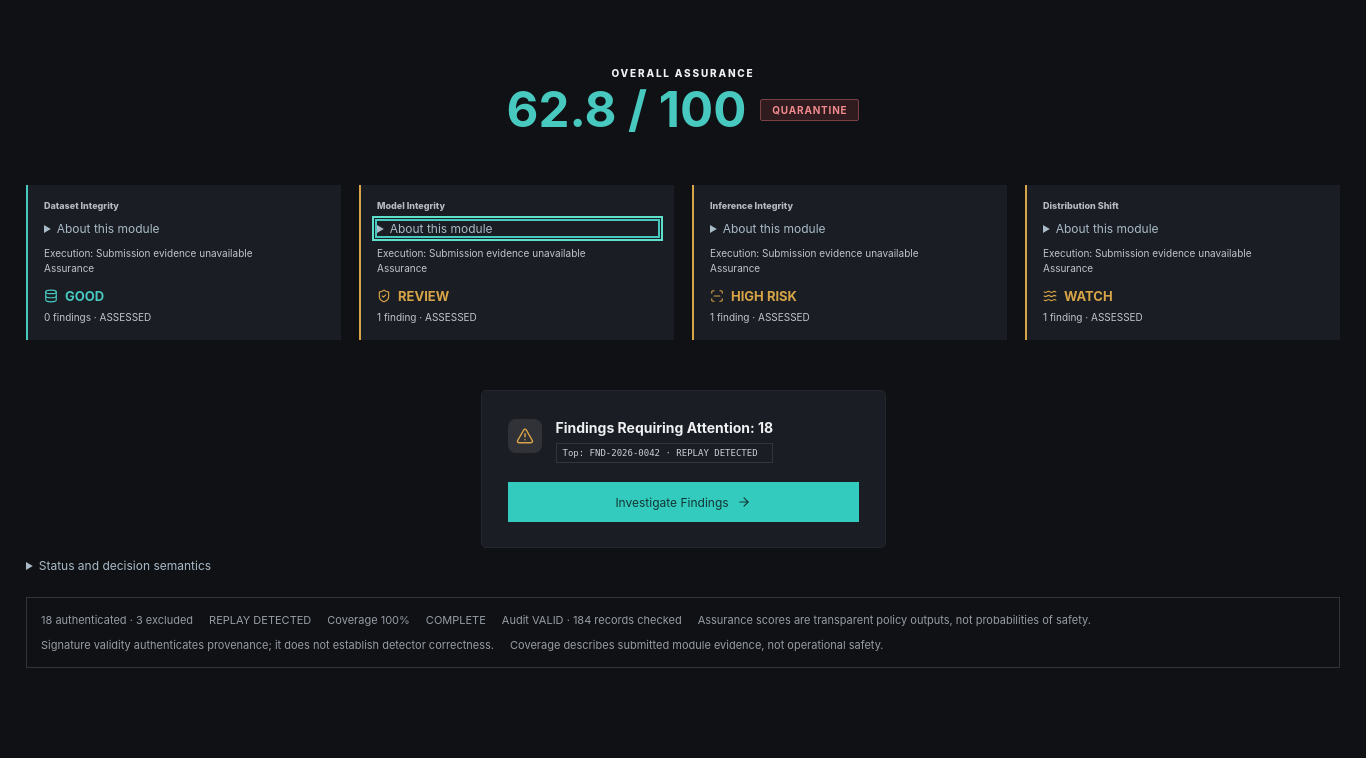
Test: provides keyboard-accessible module and decision help
Click the heading named "About model integrity".
click(441, 229)  # box left=377, top=221, right=658, bottom=236
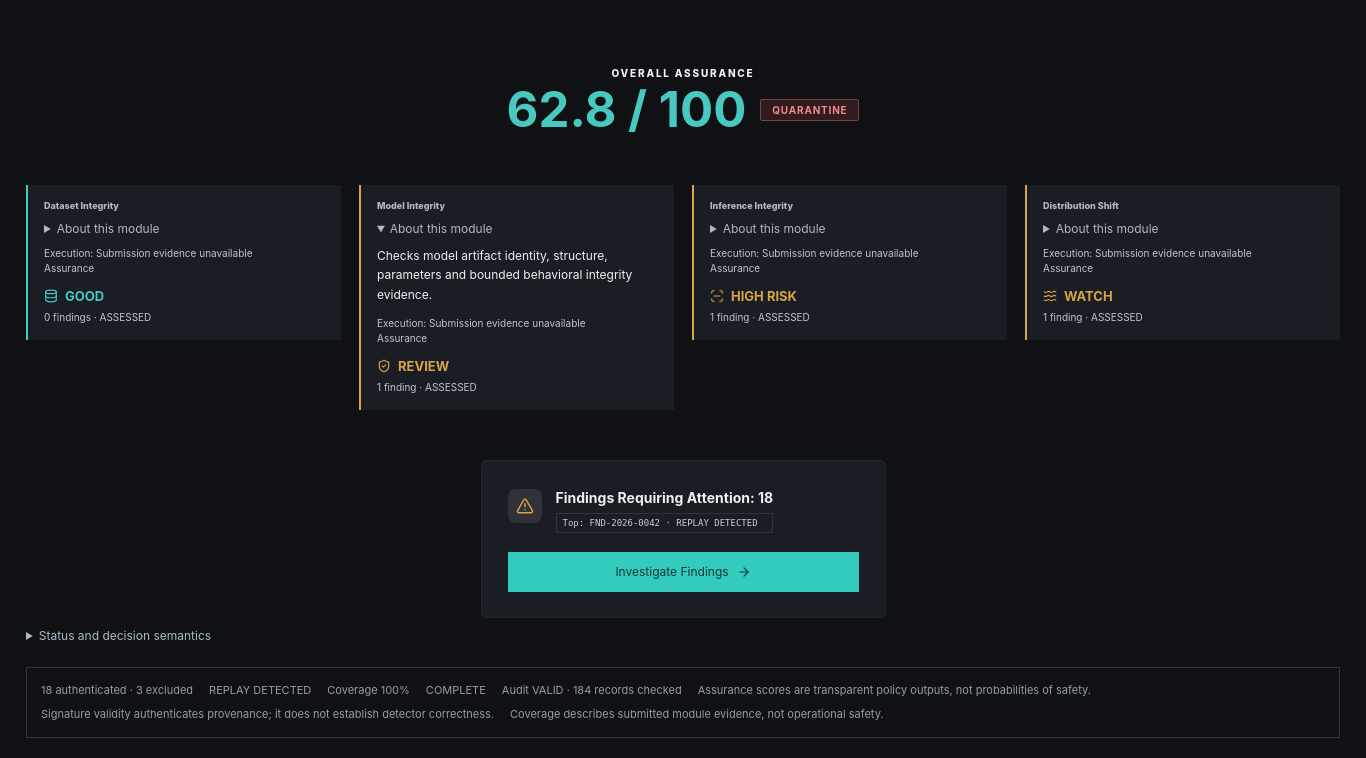
Expected: the text "Checks model artifact identity" is shown, left=377, top=248, right=632, bottom=302
Click the heading "Status and decision semantics".
click(125, 635)  # box left=39, top=628, right=211, bottom=643
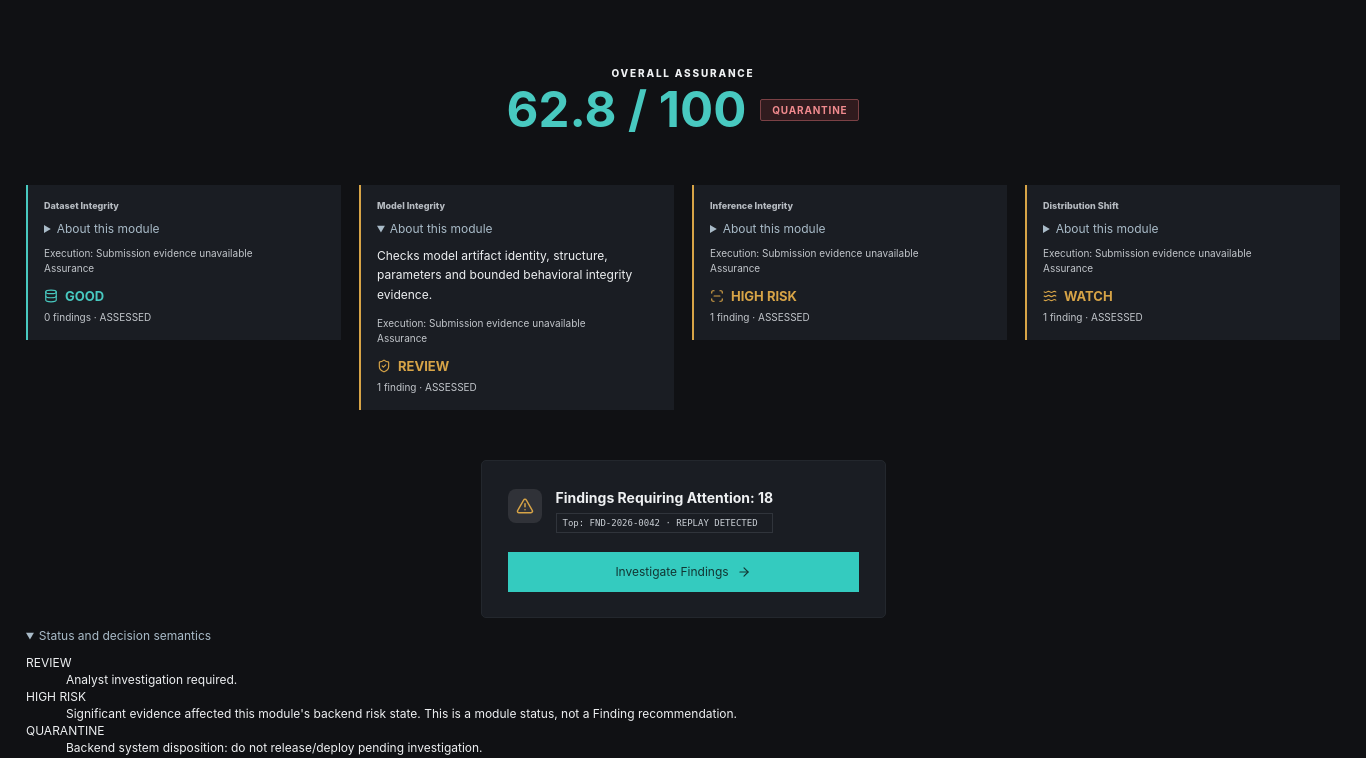
Expected: the text "Distribution Shift" is shown, left=1043, top=200, right=1119, bottom=211
Expected: the text "This is a module status, not a Finding recommendation" is shown, left=66, top=706, right=737, bottom=721
